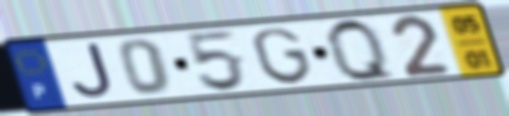0: (114, 37, 176, 98)
2: (389, 12, 456, 80)
5: (180, 28, 252, 93)
G: (248, 25, 317, 86)
J: (69, 40, 116, 101)
Q: (323, 16, 402, 84)
